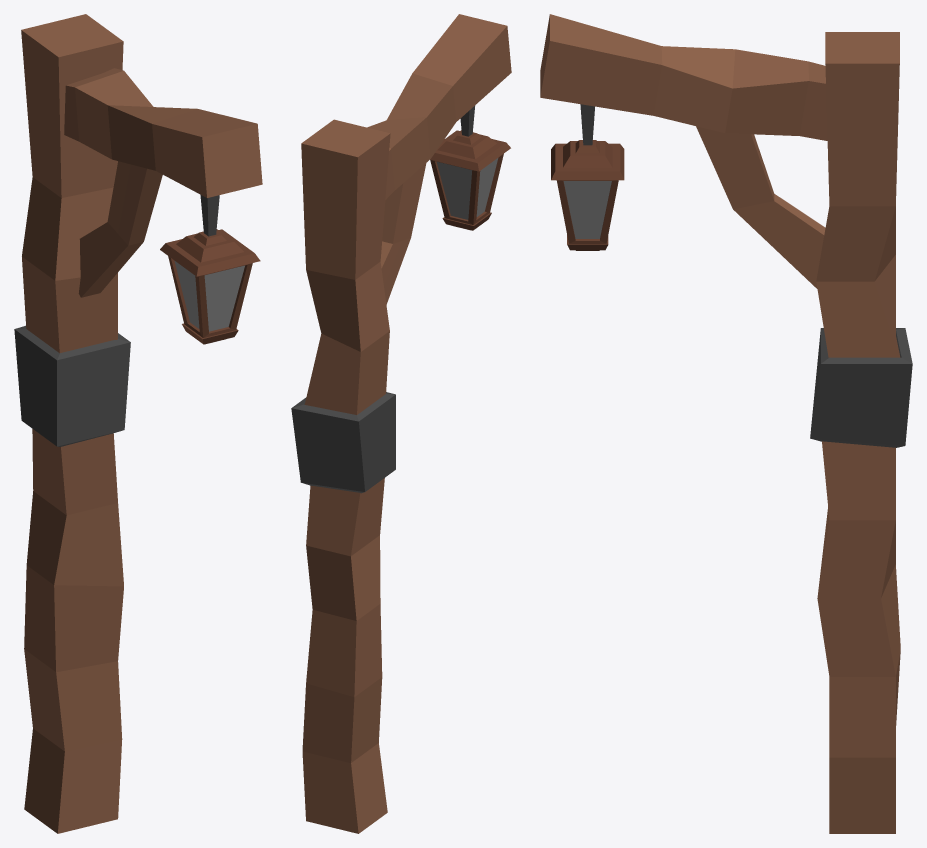
Rendered from farolaColor1.fbx.
3 views of the same model, side by side, from view 1: azimuth 30°, elevation 25°; view 2: azimuth 150°, elevation 25°; view 3: azimuth 270°, elevation 25° (orthographic). The views are drawn at different scales.
Parts seen in each view (by area): view 1: Cube.8671, Cube.8673, Cube.8674, Cube.8672, Cube.8675, Cube.8676, Cube.8677; view 2: Cube.8671, Cube.8673, Cube.8674, Cube.8675, Cube.8672, Cube.8676; view 3: Cube.8671, Cube.8673, Cube.8674, Cube.8672, Cube.8675, Cube.8676.
Part boxes in pixels (bbox=[...]): Cube.8671: bbox=[21, 14, 123, 833]; Cube.8673: bbox=[64, 68, 262, 197]; Cube.8674: bbox=[14, 325, 130, 446]; Cube.8672: bbox=[78, 161, 162, 297]; Cube.8675: bbox=[160, 229, 260, 344]; Cube.8676: bbox=[174, 261, 244, 331]; Cube.8677: bbox=[200, 194, 219, 236]; Cube.8671: bbox=[301, 119, 390, 833]; Cube.8673: bbox=[367, 14, 511, 199]; Cube.8674: bbox=[291, 392, 395, 493]; Cube.8675: bbox=[430, 130, 510, 230]; Cube.8672: bbox=[380, 163, 426, 304]; Cube.8676: bbox=[436, 158, 498, 219]; Cube.8671: bbox=[816, 32, 900, 833]; Cube.8673: bbox=[540, 14, 827, 140]; Cube.8674: bbox=[810, 328, 912, 447]; Cube.8672: bbox=[696, 126, 825, 288]; Cube.8675: bbox=[551, 140, 624, 250]; Cube.8676: bbox=[563, 181, 611, 238].
Bounding box in the file's own units: 184 × 1906 × 812.
